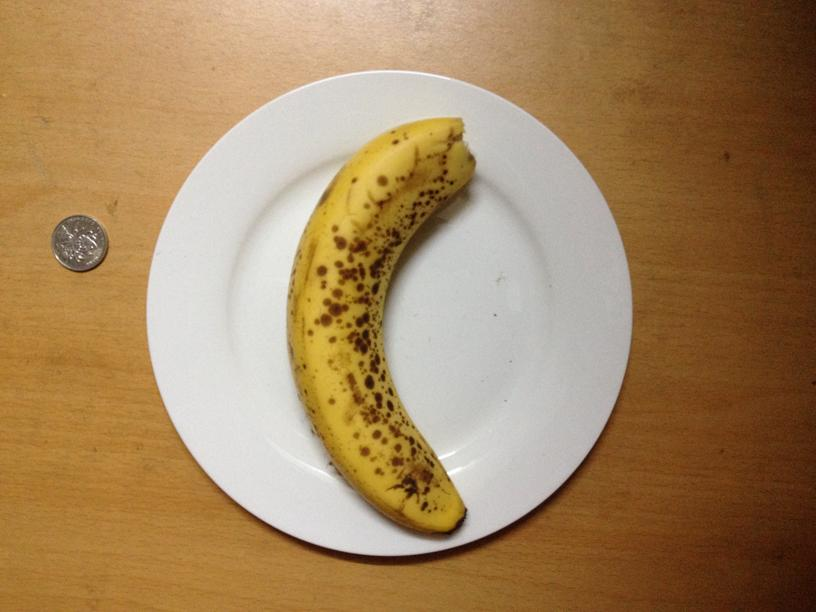banana: (297, 109, 474, 535)
coin: (51, 214, 105, 270)
